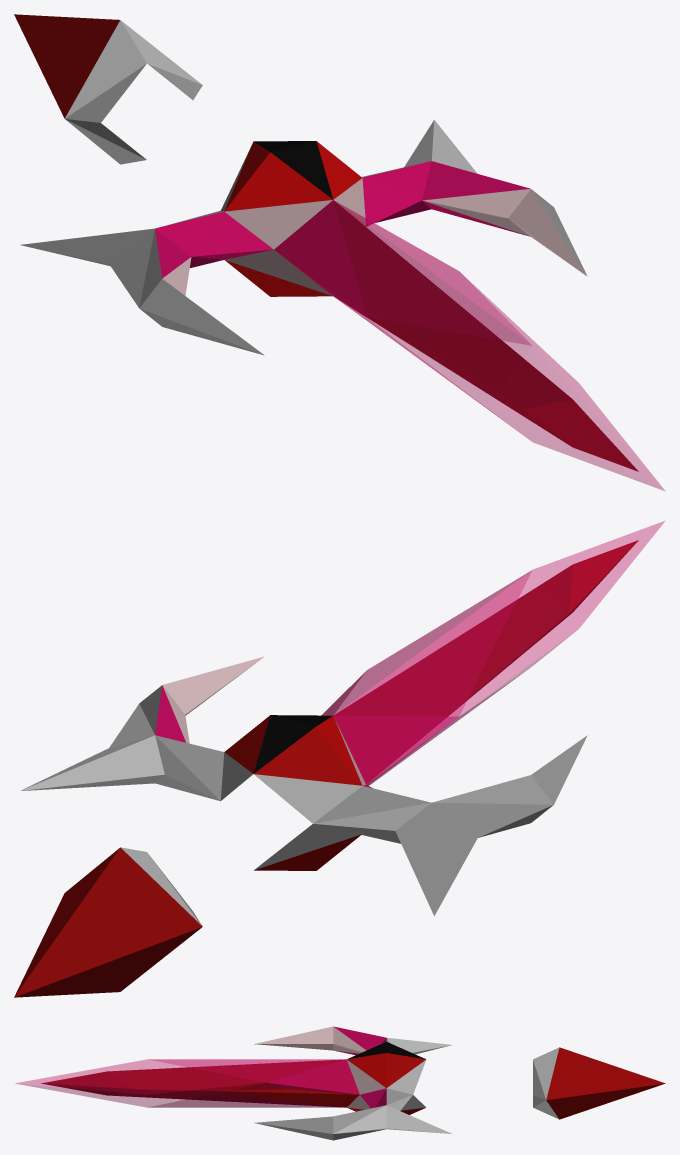
The model's file is dragon-defender.glb.
3 renders of one model, top to bottom at view 1: azimuth 30°, elevation 25°; view 2: azimuth 150°, elevation 25°; view 3: azimuth 270°, elevation 25°, orthographic. The views are drawn at different scales.
Parts seen in each view (by area): view 1: runescapemodel; view 2: runescapemodel; view 3: runescapemodel.
Part boxes in pixels (box(x1,y1,x2,y2)): runescapemodel: box(14, 14, 664, 490); runescapemodel: box(14, 521, 664, 997); runescapemodel: box(16, 1026, 665, 1140).
Size of the model in its own units: 18 by 6 by 49.
